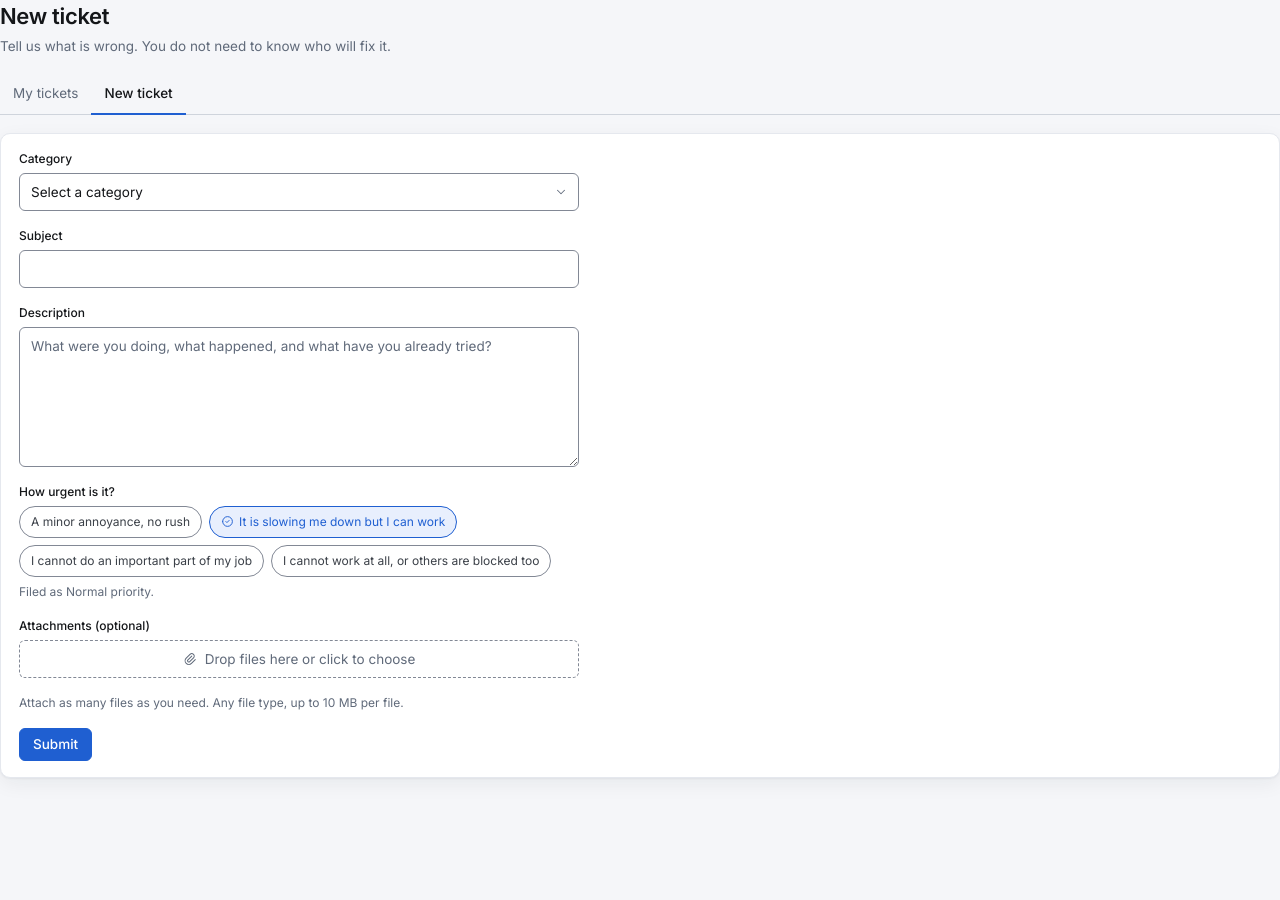
Scenario: help suggestions on the new-ticket form › says so when an article cannot be opened
The width and height of the screenshot is (1280, 900).
Type "wifi keeps dropping" into the field labelled "Subject" at coordinates (299, 269), box [19,250,579,288]
Wait 400 ms
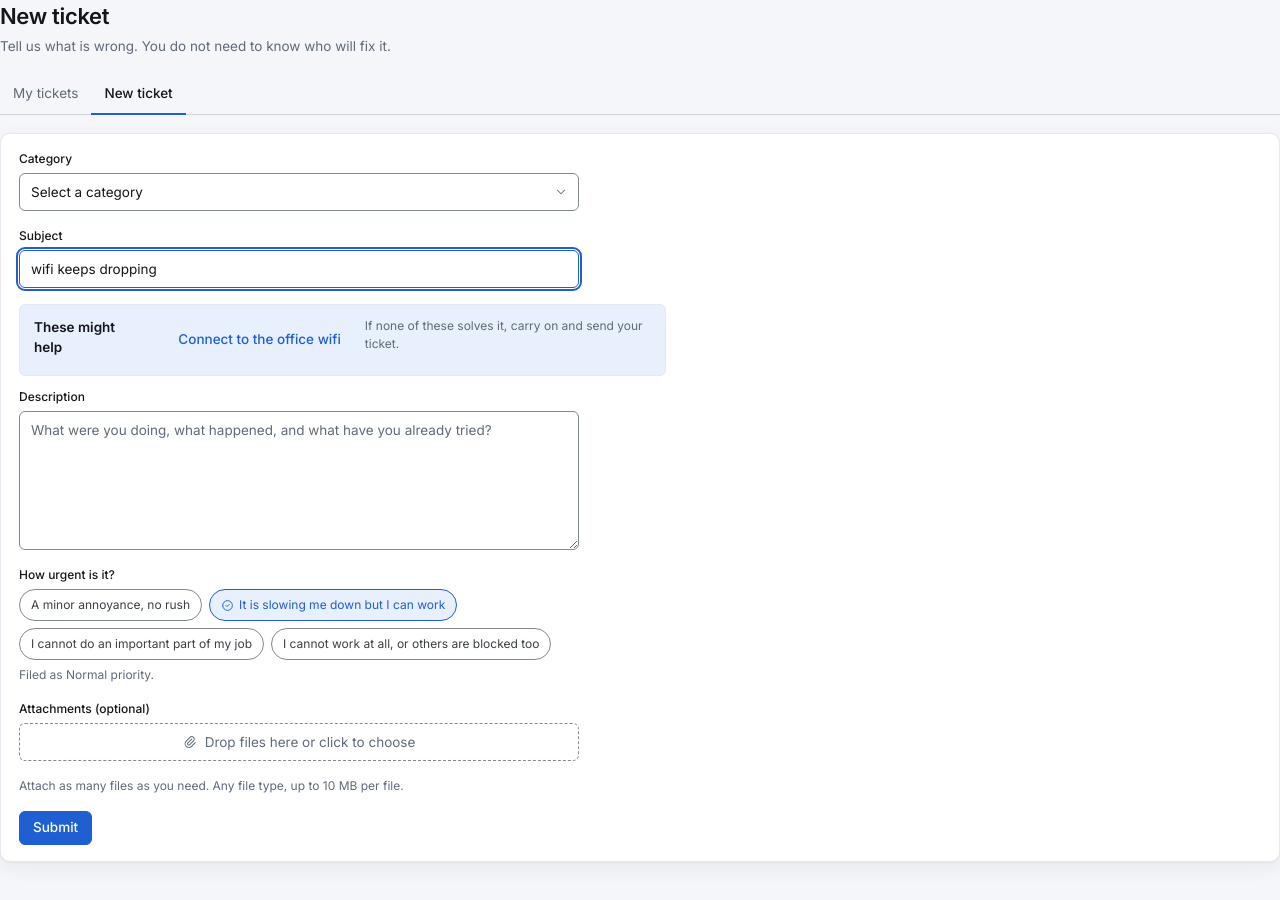
Click the button "Connect to the office wifi" at coordinates (260, 340), box [164,323,355,356]
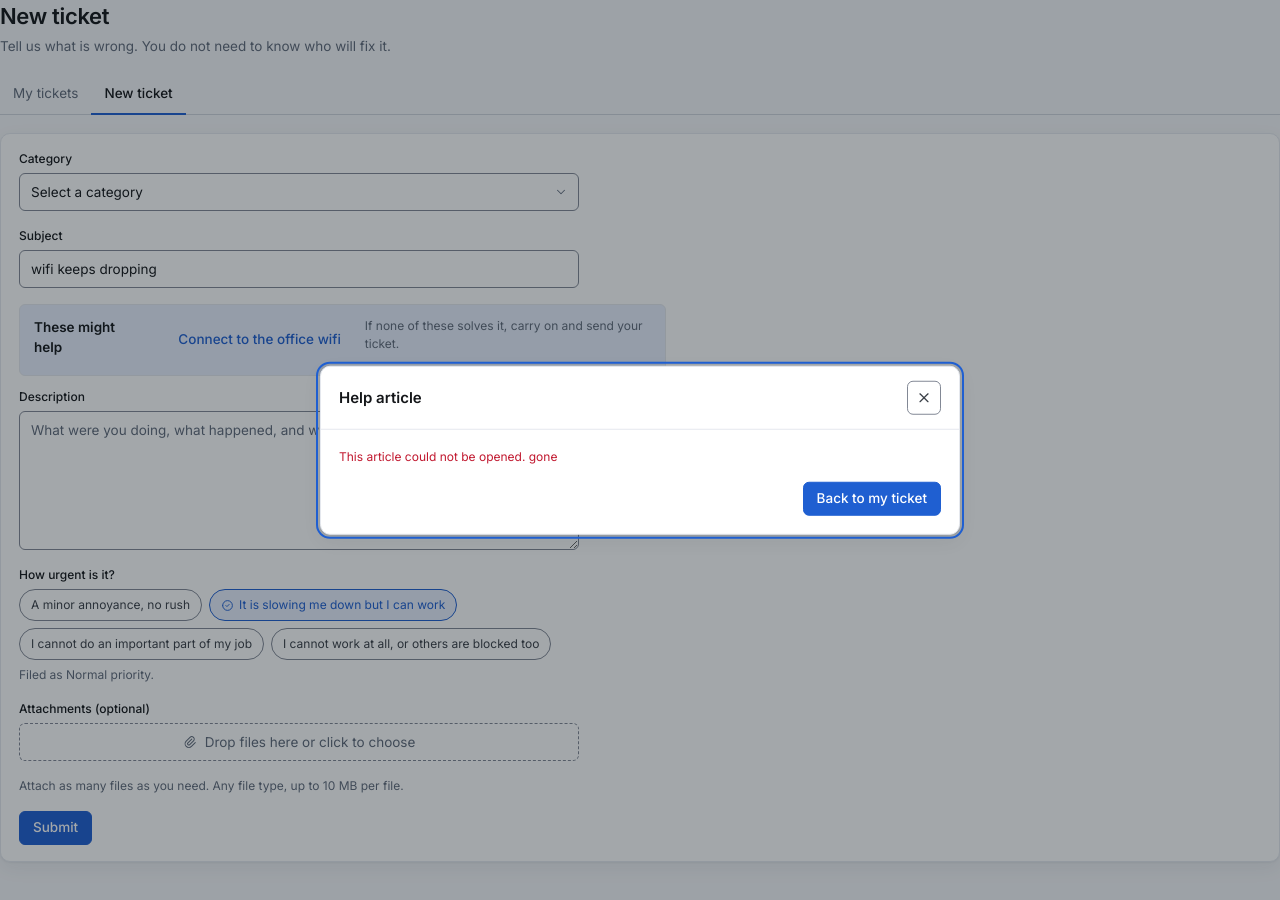
Expected: the message shows "This article could not be opened.", [339,449,557,464]
